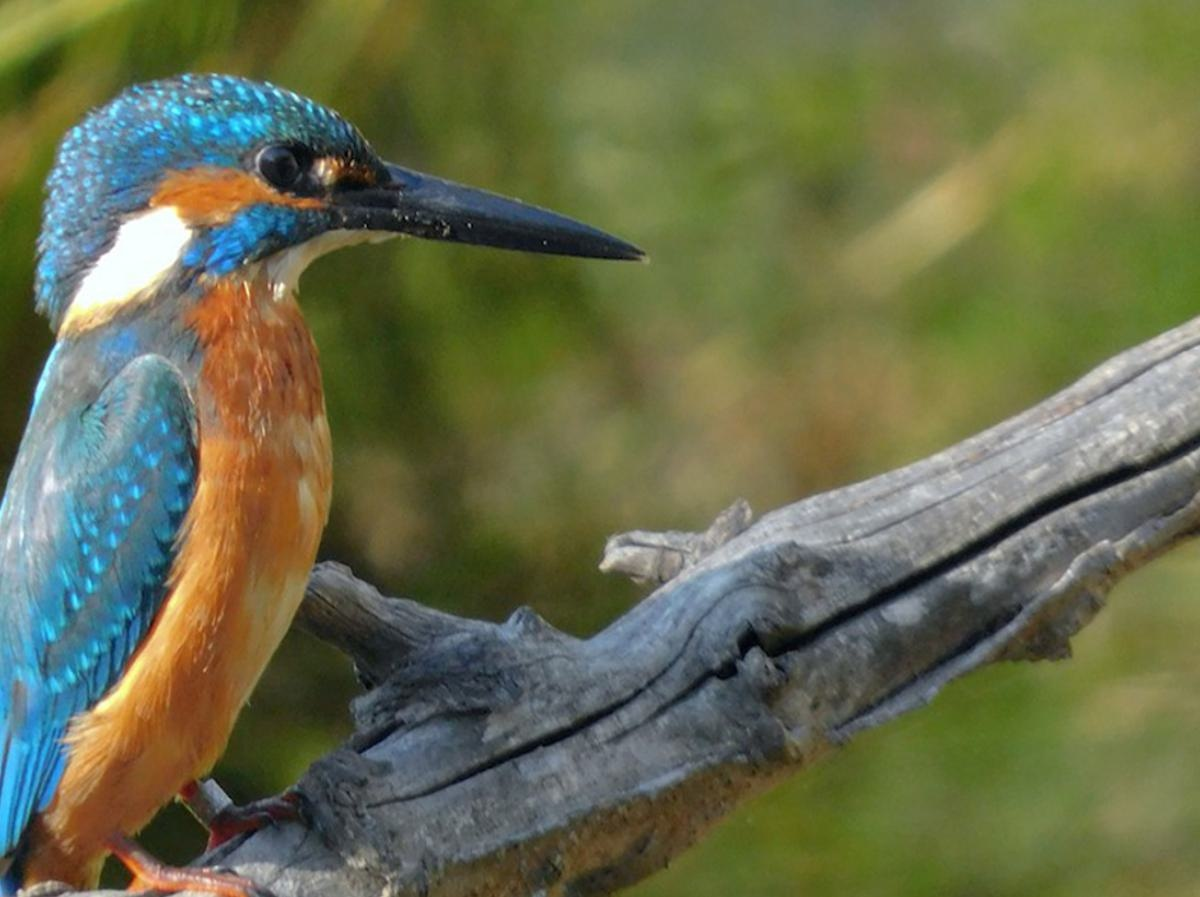kingfisher: (1, 71, 654, 897)
